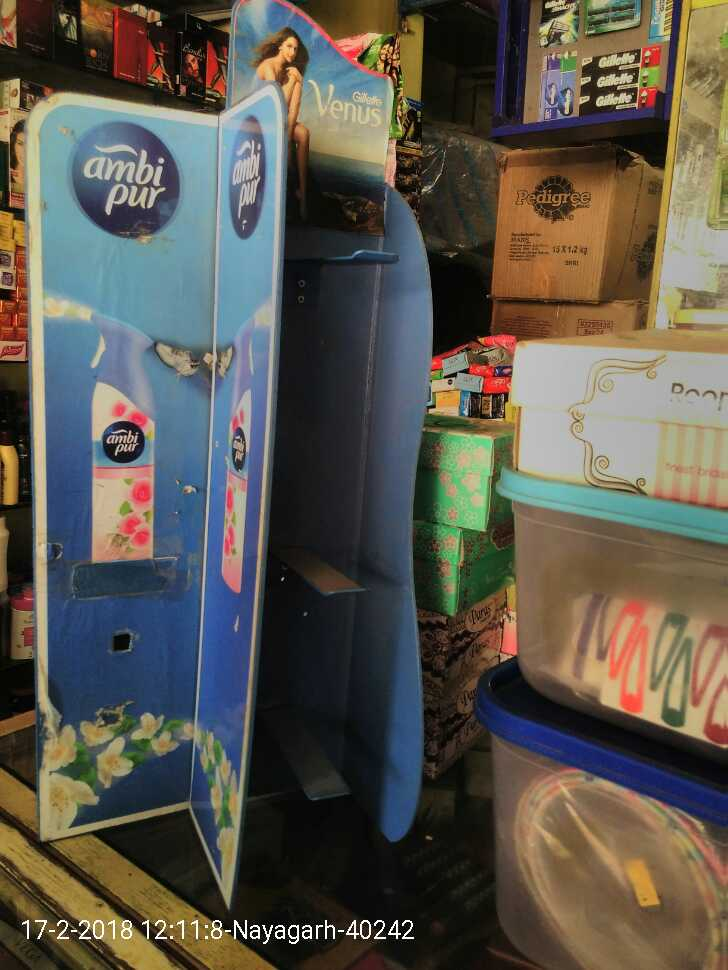reject: (406, 206, 639, 334)
